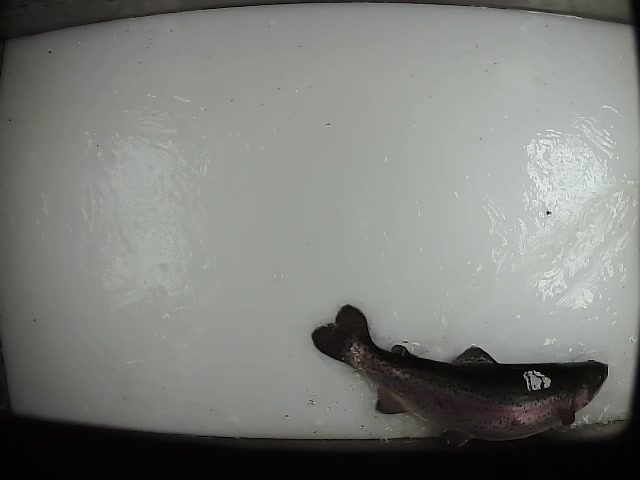fish: (307, 303, 611, 449)
